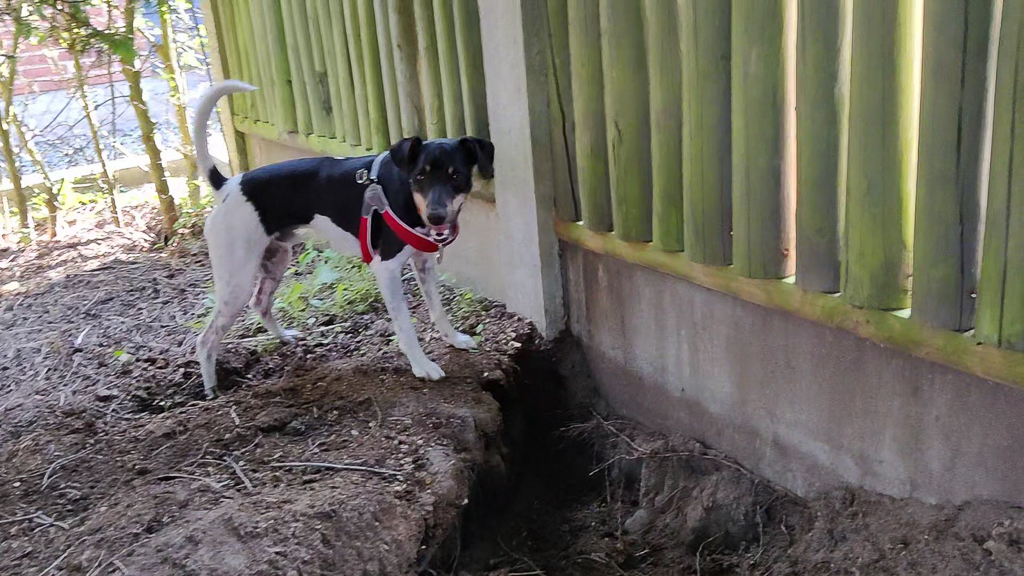Dog: (177, 65, 510, 407)
